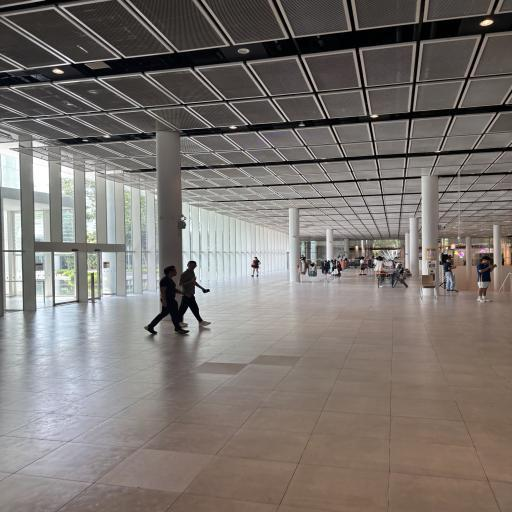person_right: (150, 262, 182, 338), (179, 260, 212, 332)
